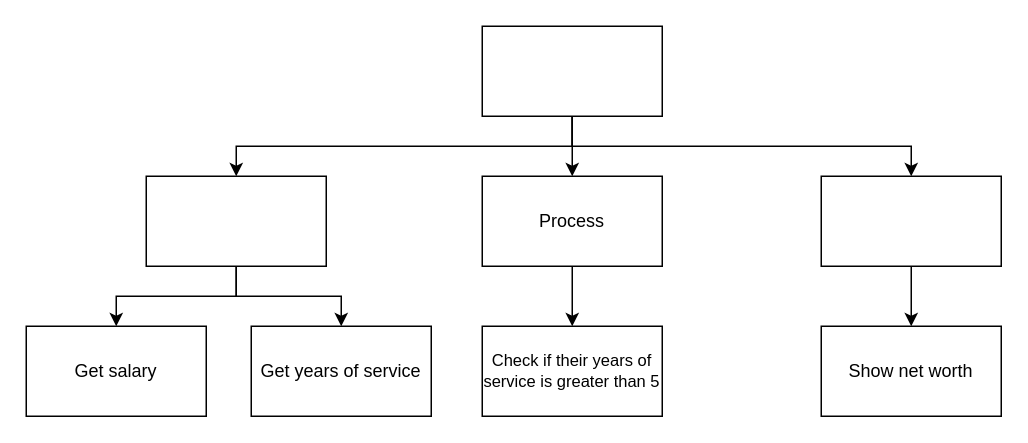
The diagram is 1028 pixels wide and 443 high, and some of its shapes have lost their labels. Here are the shapes that lost their labels. From the top down, the box of each, then its label:
(481, 25, 662, 116): Net Worth Program
(145, 175, 326, 266): Input
(820, 175, 1001, 266): Output
